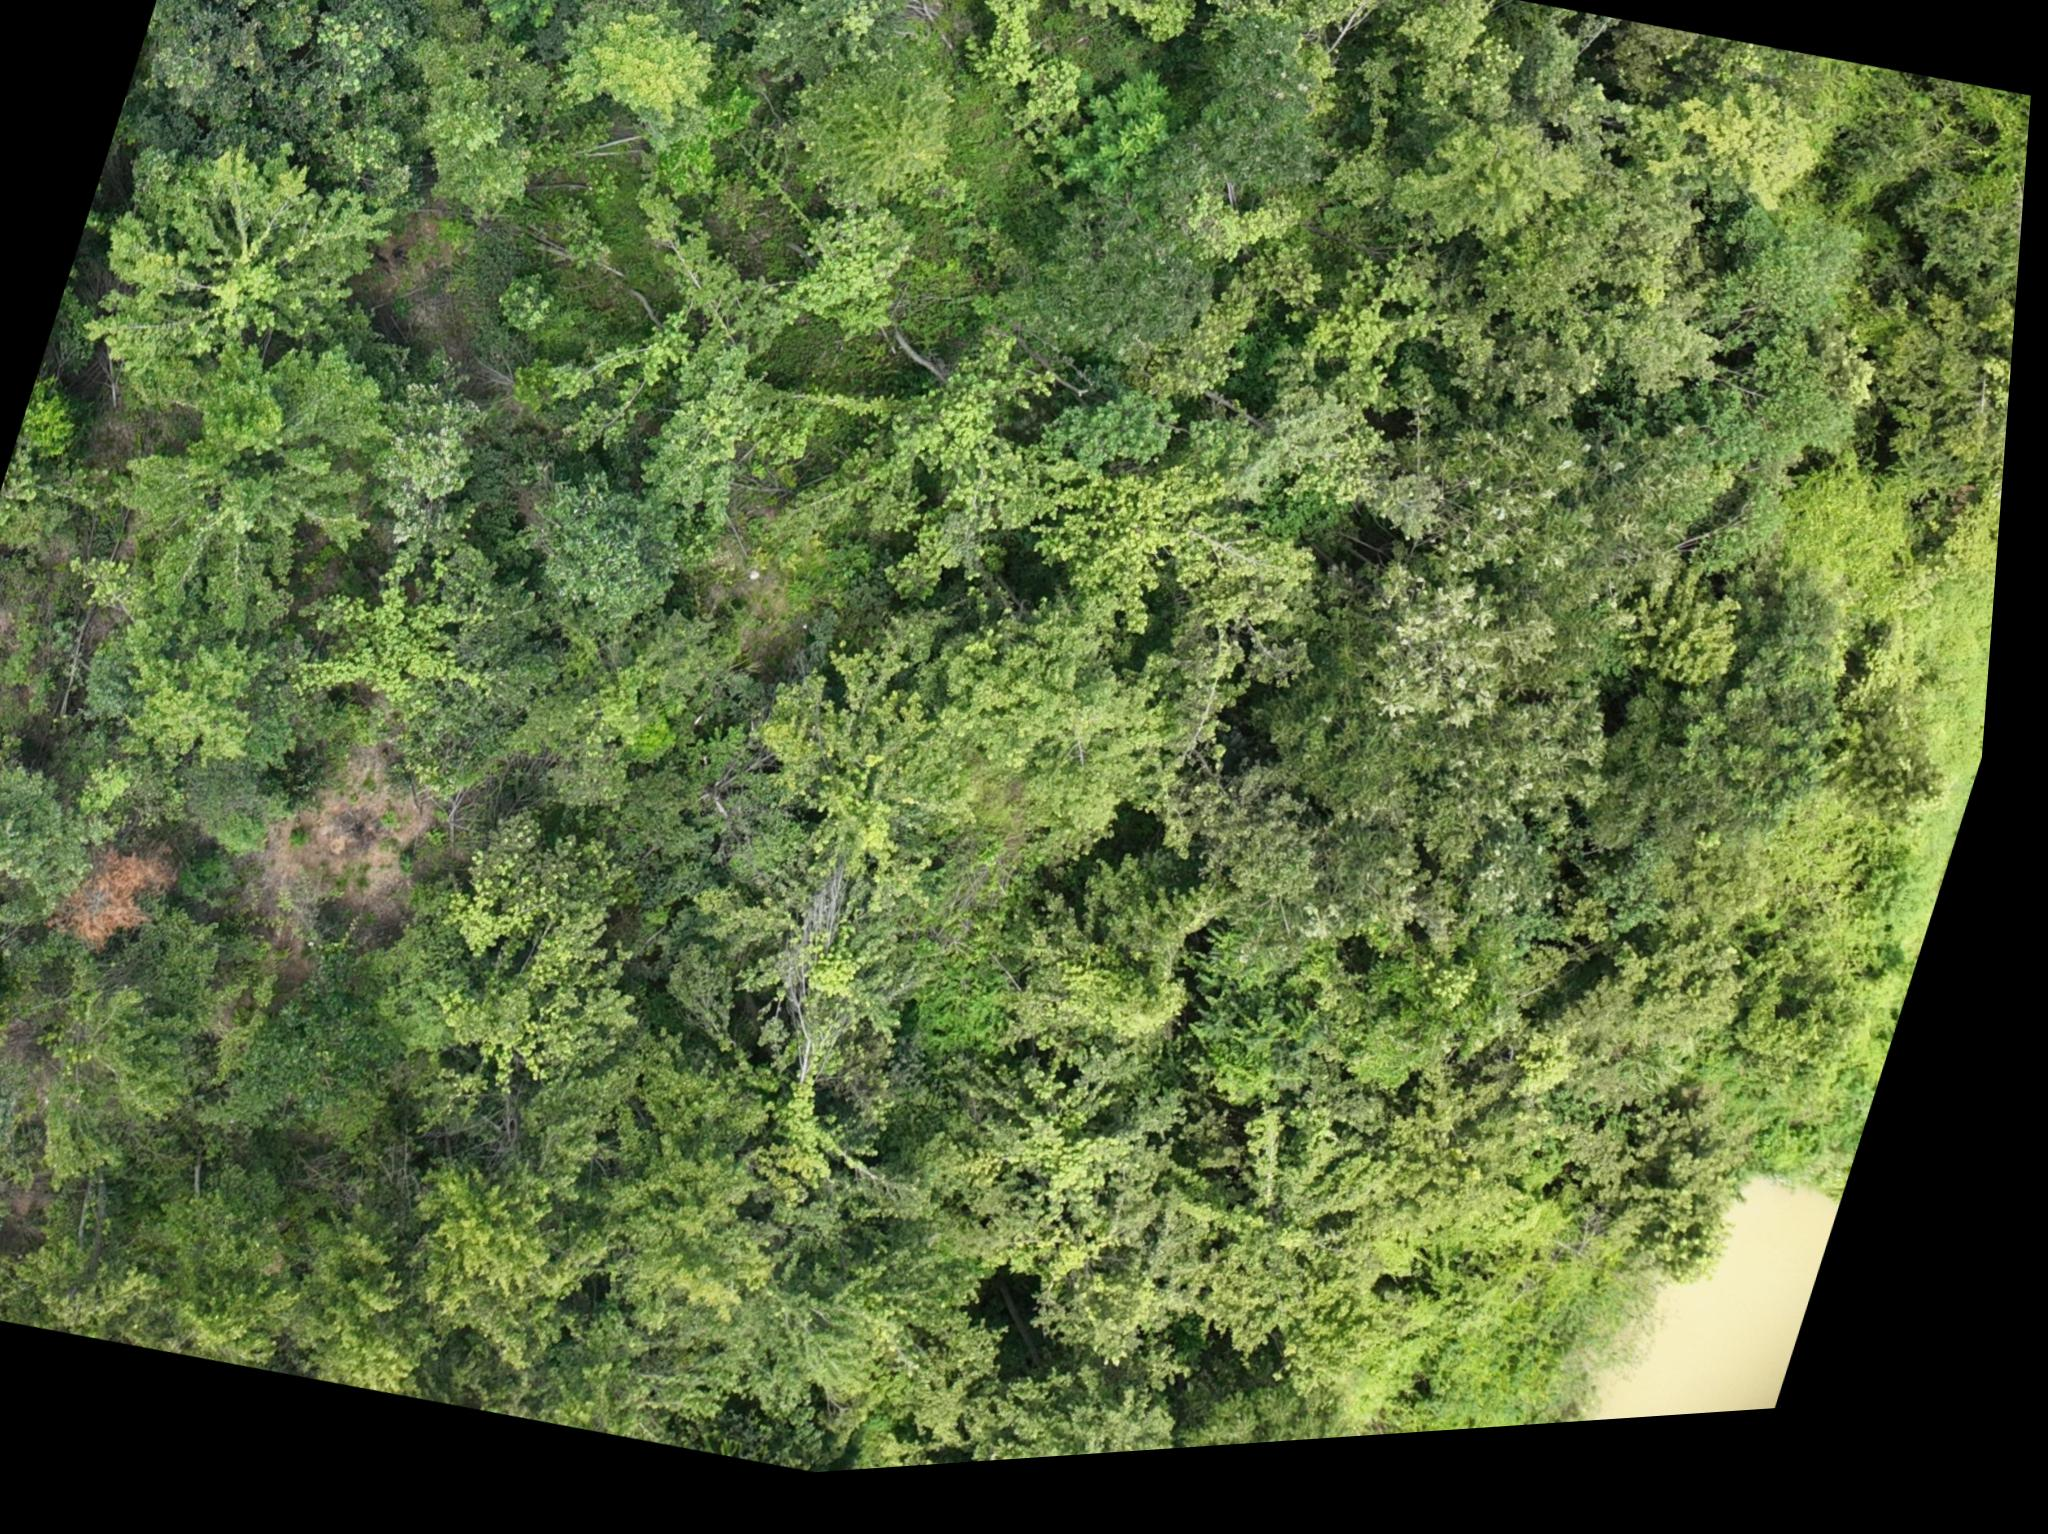heavy: (60, 823, 203, 975)
